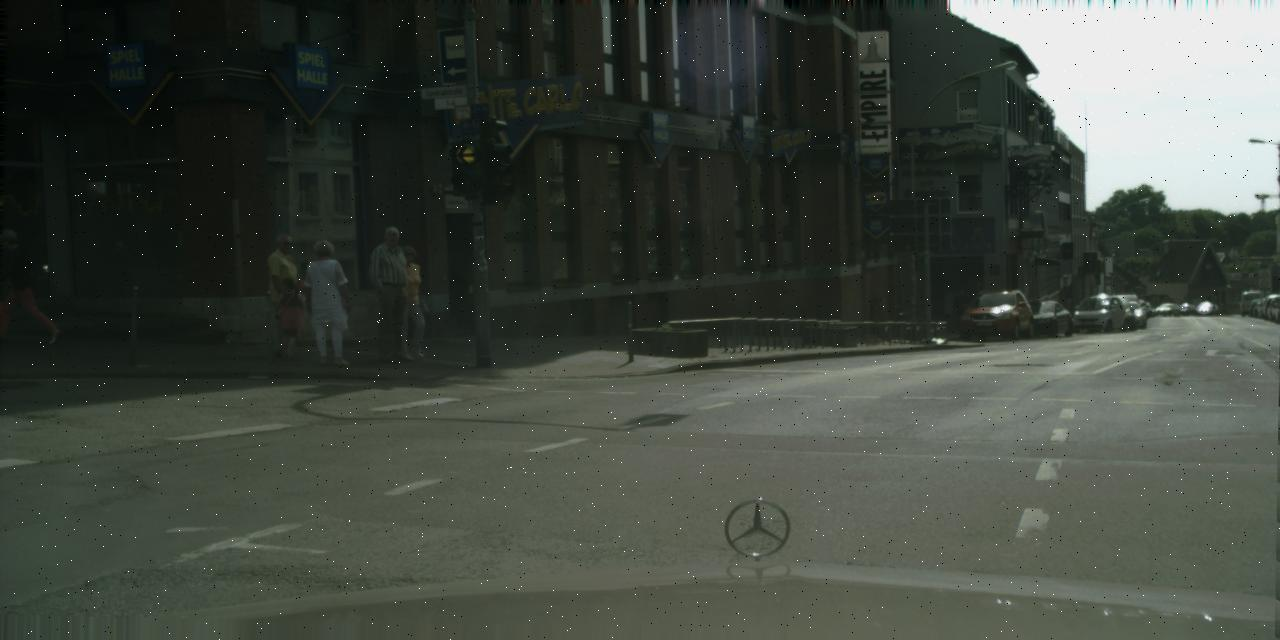ped: (365, 226, 419, 359), (301, 239, 351, 364), (258, 234, 308, 357), (388, 245, 433, 358), (0, 230, 38, 340), (272, 276, 304, 358)
